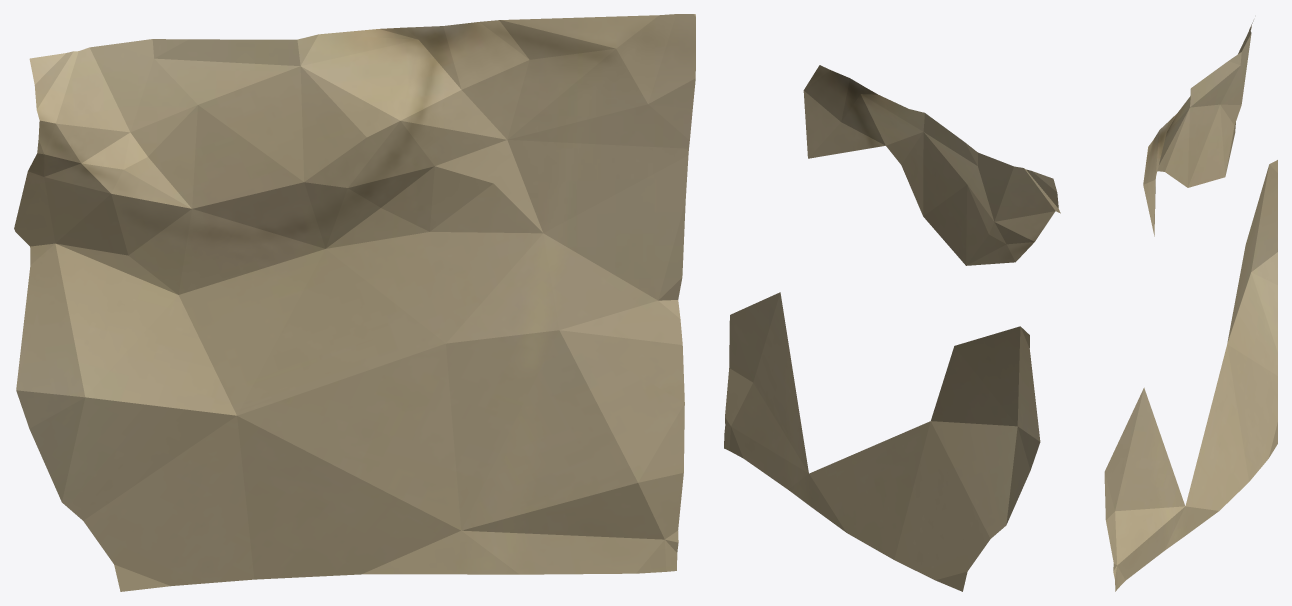
3 renders of one model, left to right at view 1: azimuth 30°, elevation 25°; view 2: azimuth 150°, elevation 25°; view 3: azimuth 270°, elevation 25°, orthographic. The views are drawn at different scales.
Size of the model in its own units: 0.8374 by 0.8374 by 0.3633.
Materials: 3 (3 with a texture image).
